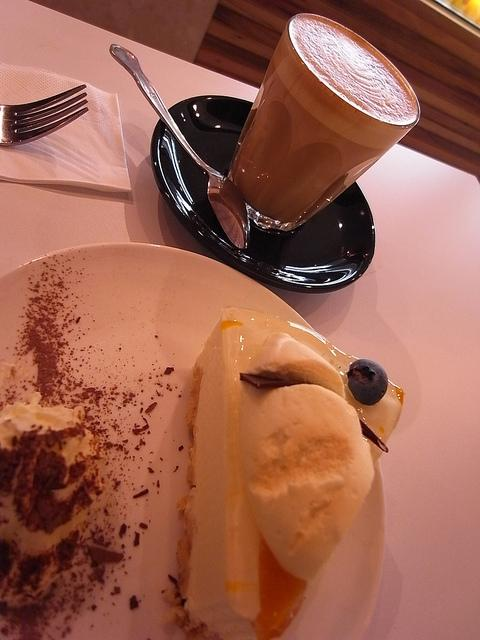blueberry: (347, 359, 388, 405)
